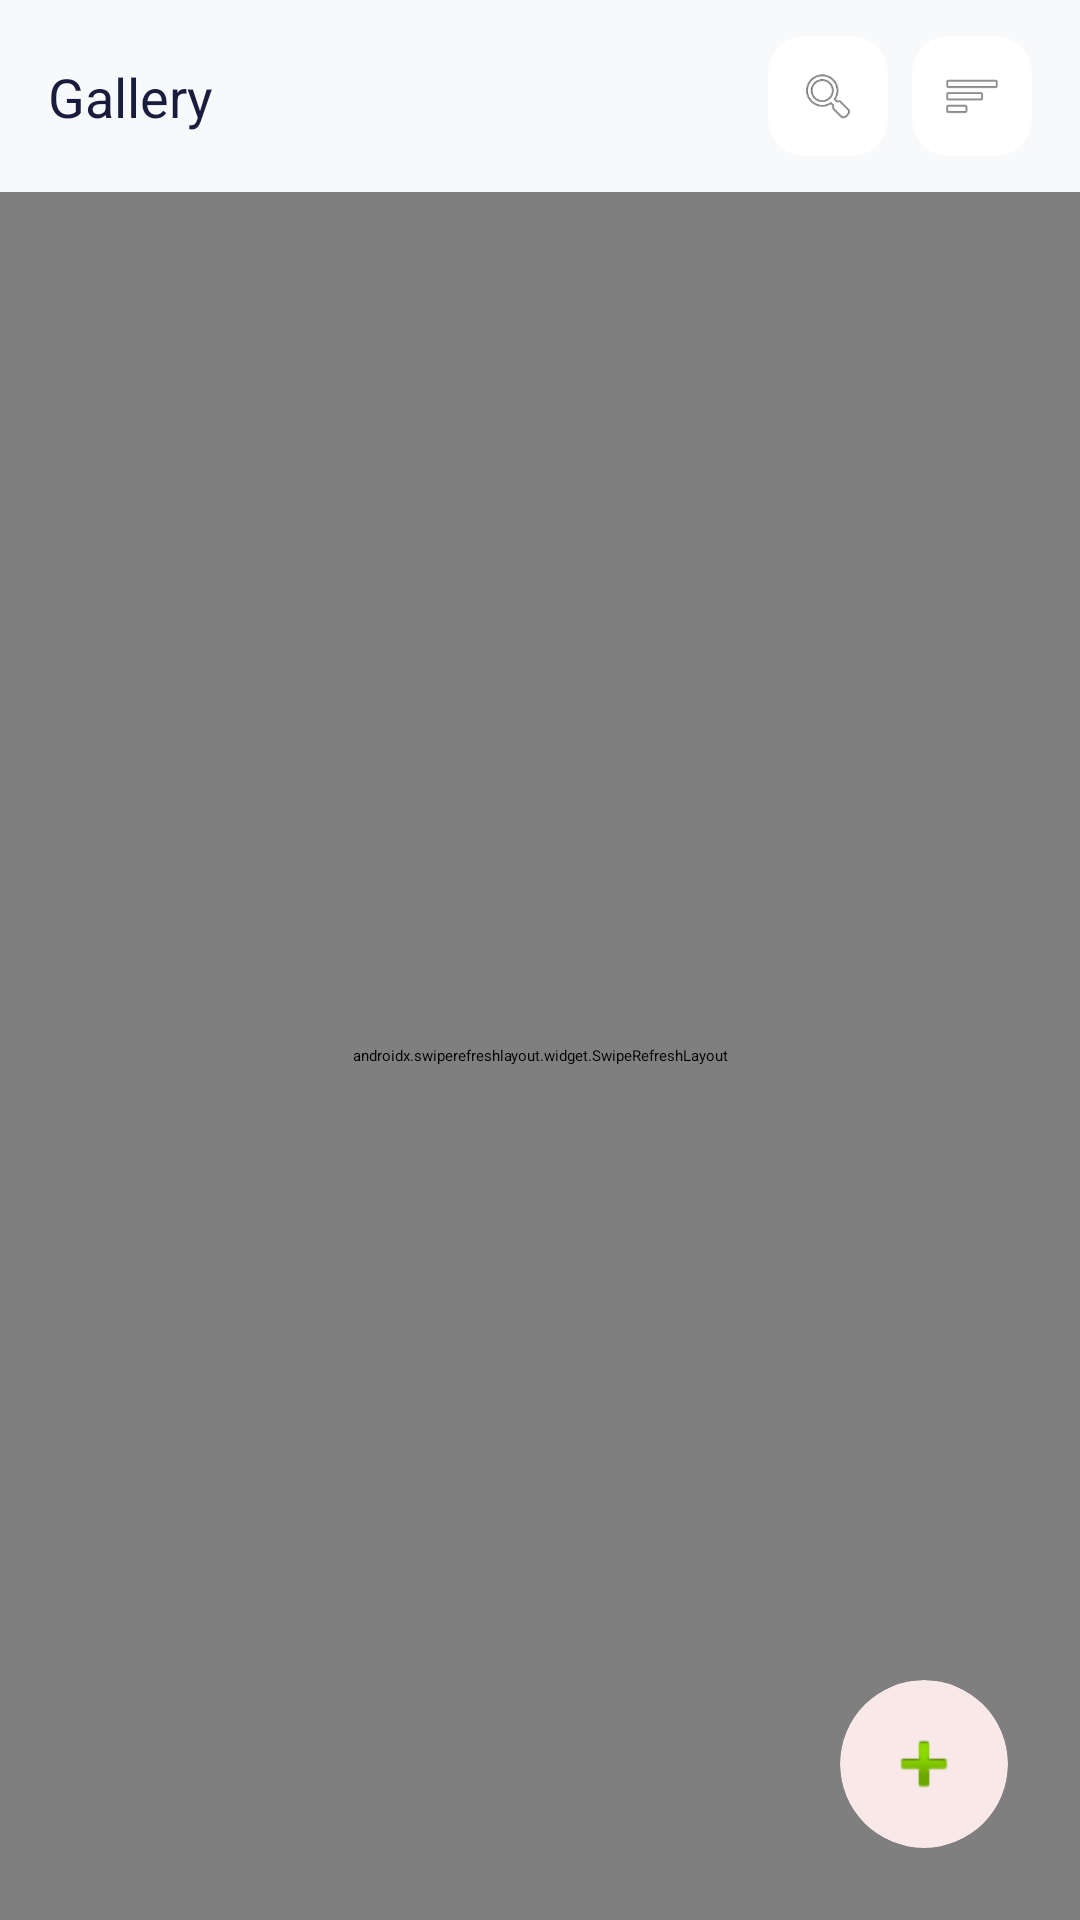

Icons on this 1080px x 1920px Android screen, each with its box as bbox(x1, y1, x2, y2):
add: bbox(840, 1680, 1008, 1848)
search: bbox(806, 74, 850, 119)
sort by size: bbox(946, 79, 998, 113)
